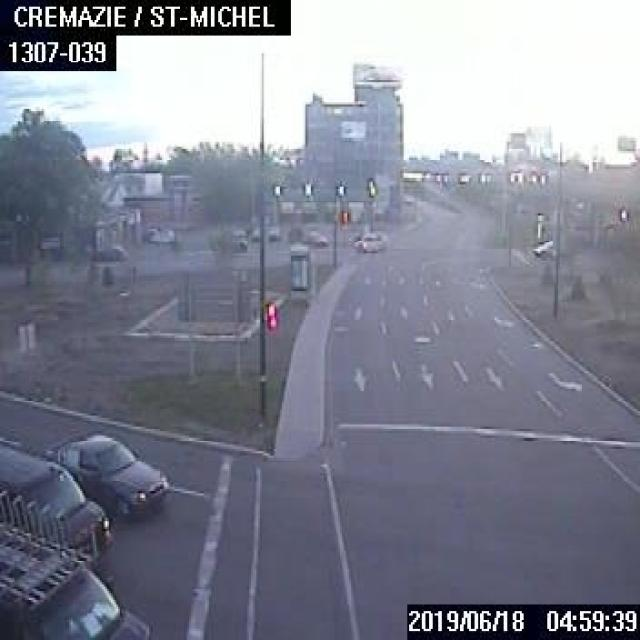vehicle: (0, 491, 151, 638), (0, 442, 113, 567), (44, 430, 166, 515), (352, 230, 387, 252), (93, 243, 124, 259), (532, 235, 550, 258), (152, 228, 175, 243)
